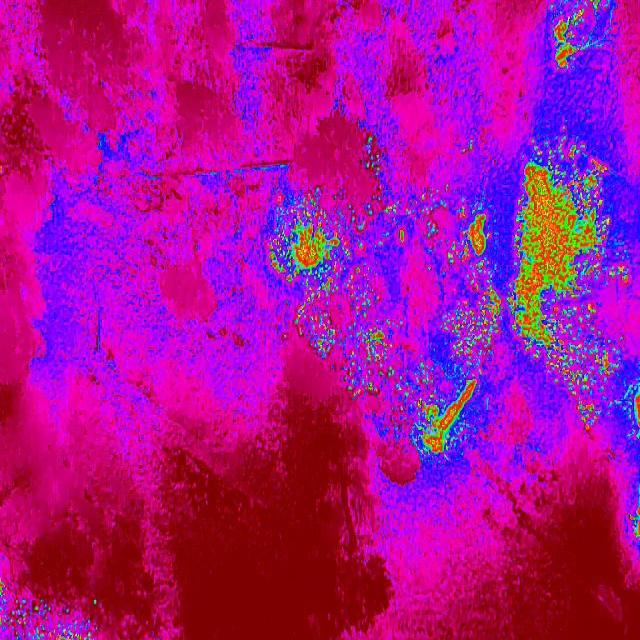fire: (263, 142, 640, 354), (338, 353, 510, 477), (549, 354, 640, 444), (0, 585, 107, 640), (546, 0, 618, 78), (629, 483, 640, 562)
